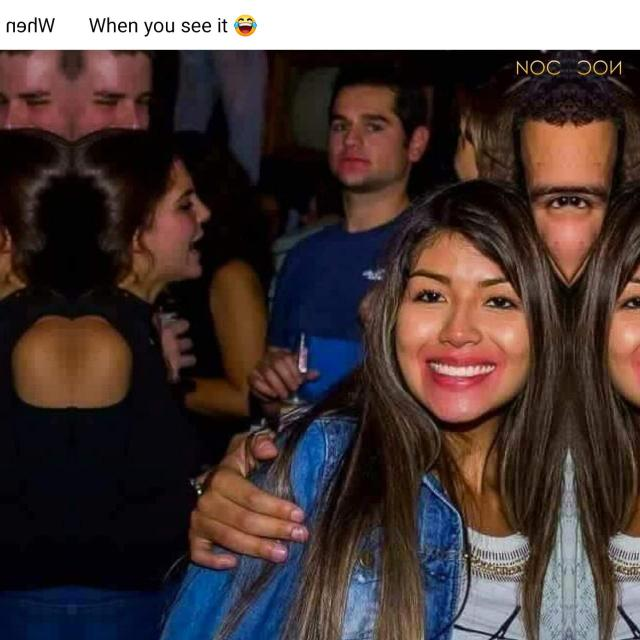person: (71, 120, 233, 514), (369, 198, 569, 500), (310, 71, 446, 336), (0, 119, 71, 514), (568, 197, 640, 500)
